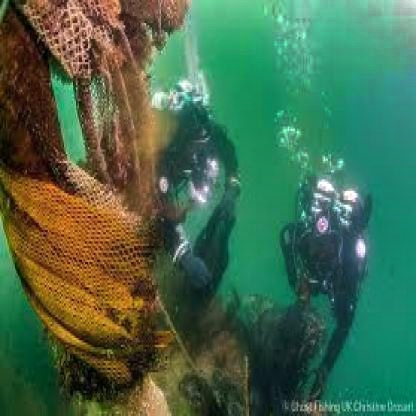net: (2, 2, 164, 404)
